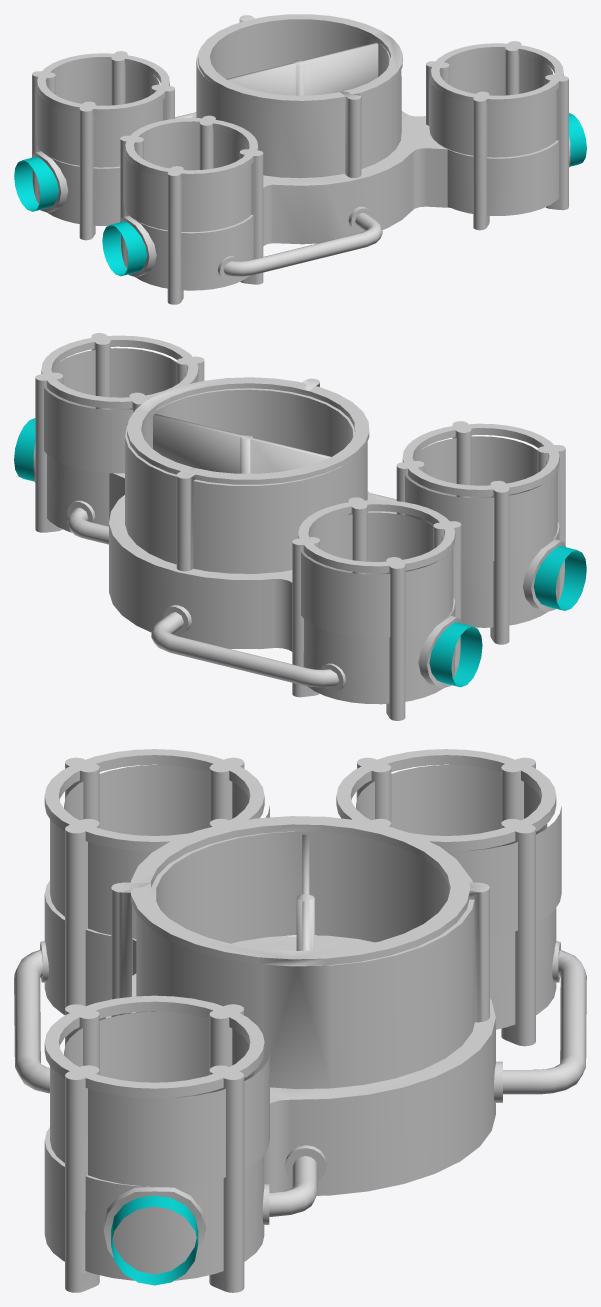
Rendered from MixerDefaultInternalVariant.gltf.
3 views of the same model, one above another, from view 1: azimuth 30°, elevation 25°; view 2: azimuth 150°, elevation 25°; view 3: azimuth 270°, elevation 25° (orthographic). The views are drawn at different scales.
Parts seen in each view (by area): view 1: MixerFoundation, MixerGlas, MixerRotator; view 2: MixerFoundation, MixerGlas, MixerRotator; view 3: MixerFoundation, MixerGlas, MixerRotator.
Part boxes in pixels (x1,y1,x2,y2): MixerFoundation: (14, 14, 586, 304); MixerGlas: (35, 23, 556, 232); MixerRotator: (226, 42, 378, 95); MixerFoundation: (14, 333, 586, 720); MixerGlas: (44, 348, 557, 637); MixerRotator: (153, 414, 330, 473); MixerFoundation: (14, 749, 586, 1292); MixerGlas: (50, 765, 561, 1186); MixerRotator: (296, 834, 314, 950).
Bounding box in the file's own units: 3 × 1.01 × 1.96.
